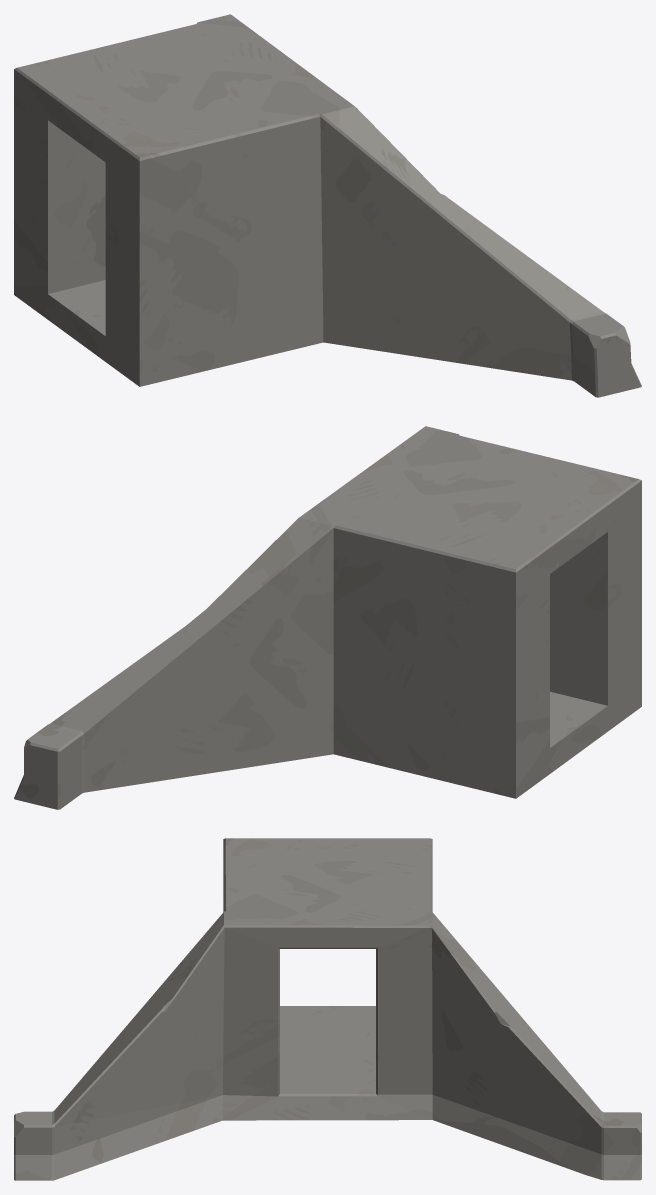
Rendered from model_concrete_bunker.fbx.
The picture shows the model from 3 angles, top to bottom: view 1: azimuth 30°, elevation 25°; view 2: azimuth 150°, elevation 25°; view 3: azimuth 270°, elevation 25°; orthographic projection. The views are drawn at different scales.
Visible parts, largest first — view 1: model_concrete_bunker; view 2: model_concrete_bunker; view 3: model_concrete_bunker.
Part boxes in pixels (x1=…): model_concrete_bunker: x1=14, y1=14, x2=641, y2=397; model_concrete_bunker: x1=14, y1=426, x2=641, y2=809; model_concrete_bunker: x1=14, y1=838, x2=641, y2=1180.
Bounding box in the file's own units: 520 × 300 × 900.
Materials: 1 (1 with a texture image).
